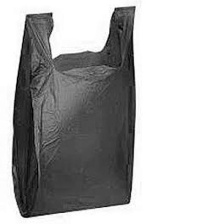plastic_bag: (8, 1, 142, 220)
